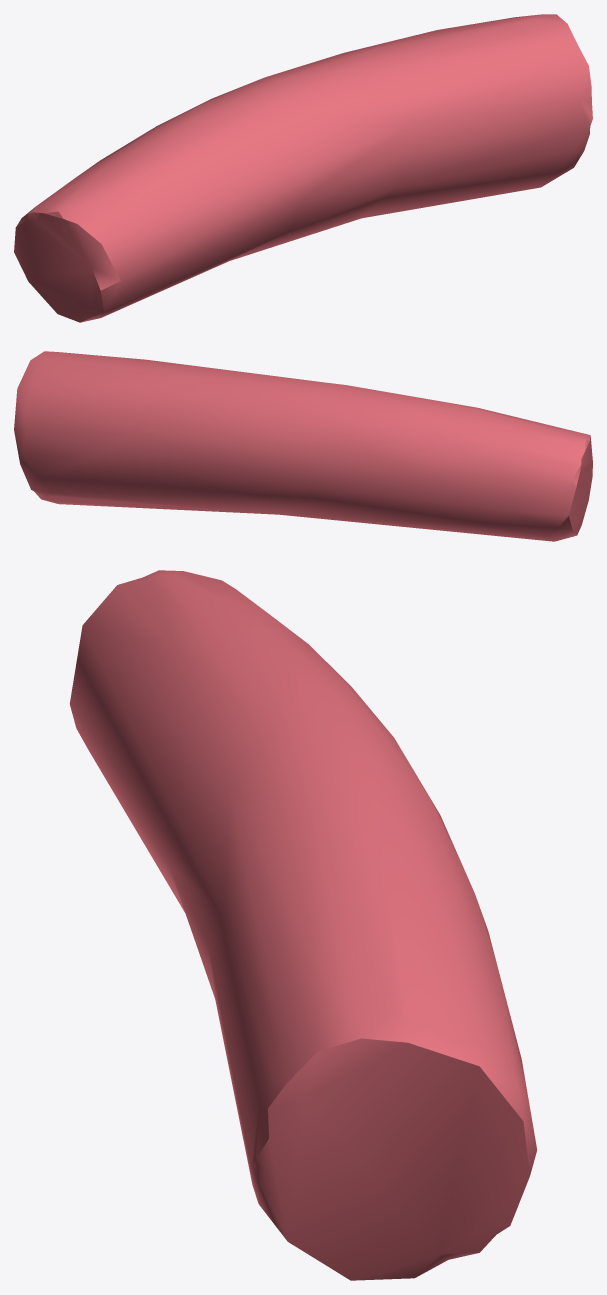
Rendered from fma68709_fj2998.glb.
The picture shows the model from 3 angles, top to bottom: view 1: azimuth 30°, elevation 25°; view 2: azimuth 150°, elevation 25°; view 3: azimuth 270°, elevation 25°; orthographic projection. The views are drawn at different scales.
Visible parts, largest first — view 1: FMA68709_FJ2998; view 2: FMA68709_FJ2998; view 3: FMA68709_FJ2998.
Part boxes in pixels (bbox=[...]): FMA68709_FJ2998: bbox=[14, 14, 592, 322]; FMA68709_FJ2998: bbox=[14, 351, 592, 541]; FMA68709_FJ2998: bbox=[69, 570, 536, 1280].
Size of the model in its own units: 0.0105 by 0.00303 by 0.0042.
